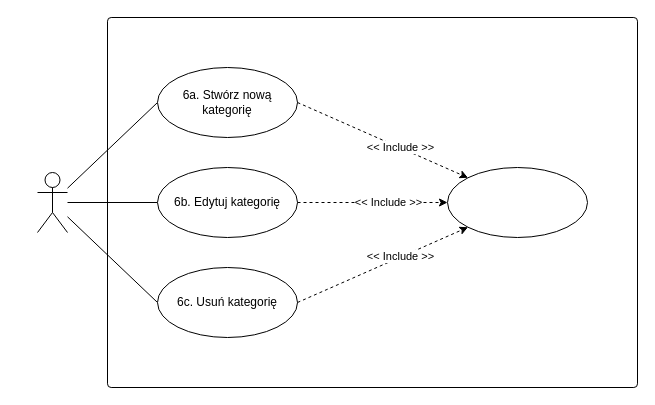
The diagram is 655 pixels wide and 405 high, and some of its shapes have lost their labels. Here are the shapes that lost their labels. From the top down, the box of each, then its label:
(36, 172, 68, 232): Administrator
(446, 166, 588, 238): 0. Autoryzuj użytkownika
